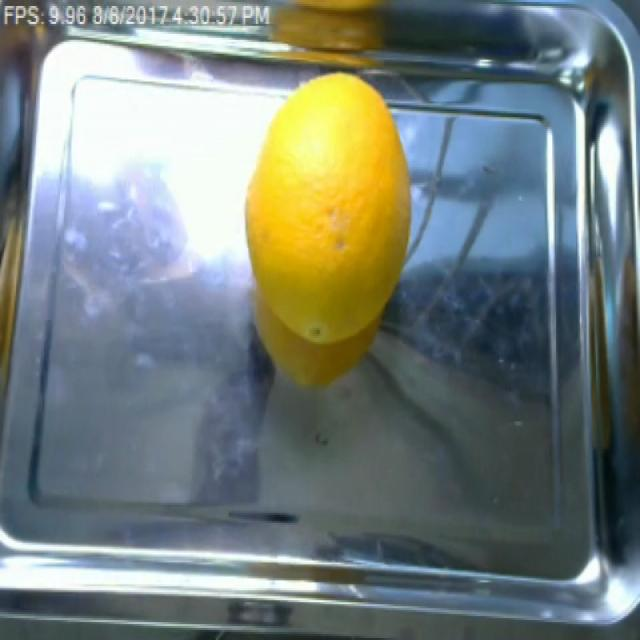Fruit: (231, 62, 416, 390), (259, 0, 413, 52)
